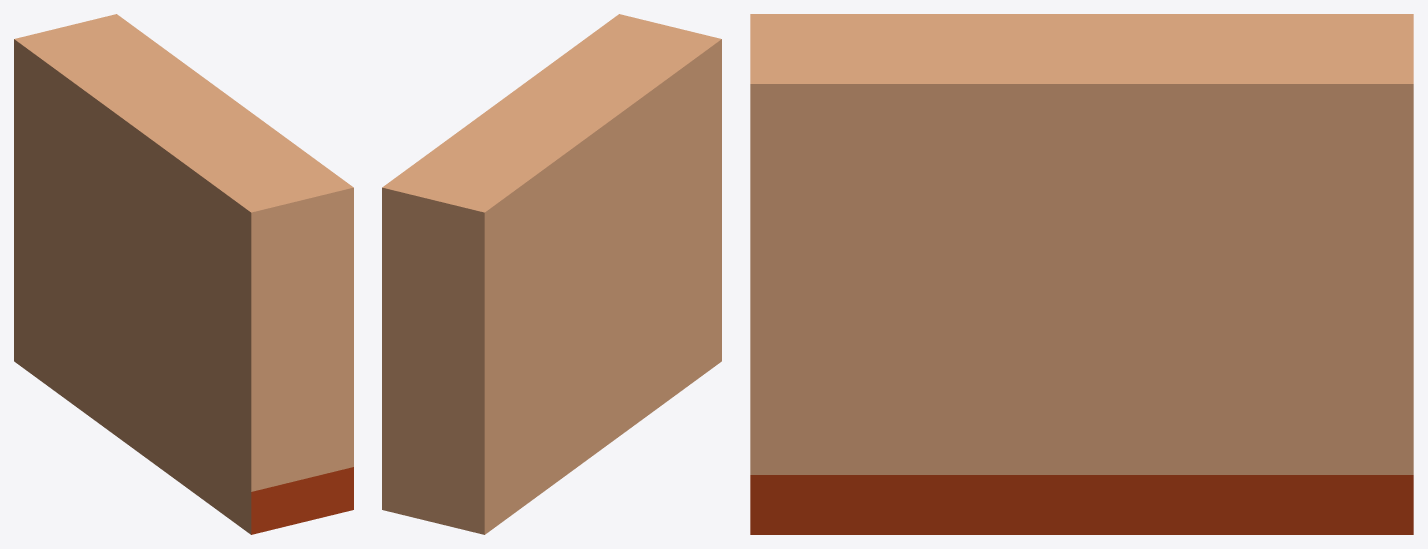
File: paredebase.fbx
3 views of the same model, side by side, from view 1: azimuth 30°, elevation 25°; view 2: azimuth 150°, elevation 25°; view 3: azimuth 270°, elevation 25° (orthographic). The views are drawn at different scales.
Visible parts, largest first — view 1: Parede Fechada; view 2: Parede Fechada; view 3: Parede Fechada.
Part boxes in pixels (x1,y1,x2,y2): Parede Fechada: (14,14,353,534); Parede Fechada: (382,14,721,534); Parede Fechada: (750,14,1413,534).
Size of the model in its own units: 1 by 4 by 3.
2 materials, 1 textured.
